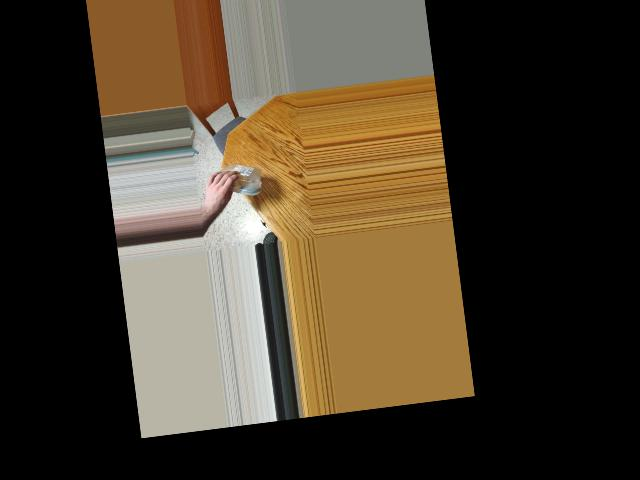cheese: (209, 164, 250, 201)
